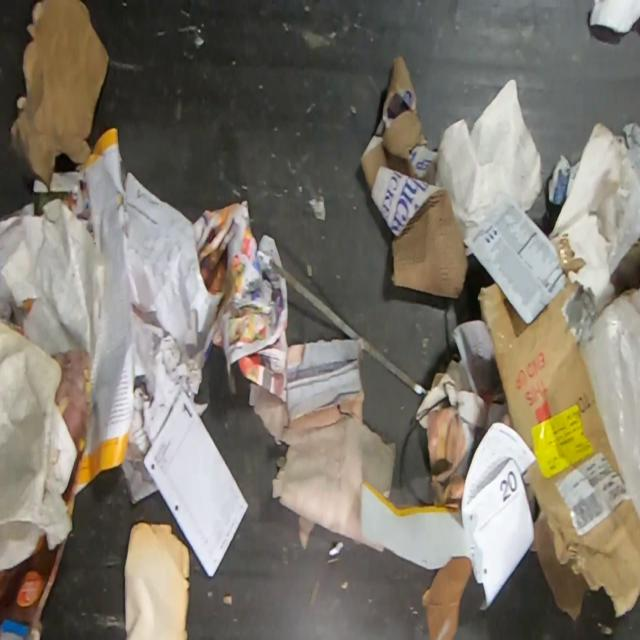cardboard: (477, 276, 640, 621), (0, 348, 93, 640), (359, 55, 469, 298), (11, 0, 111, 187), (425, 553, 474, 639)
soft_plastic: (565, 287, 640, 523), (592, 125, 640, 280)
